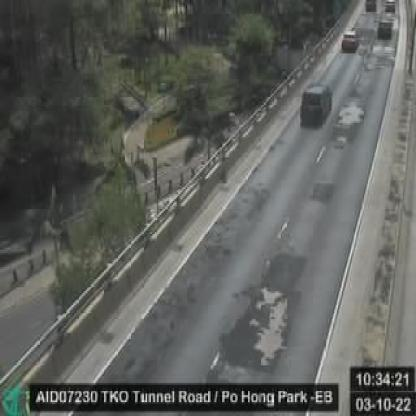Car: (302, 82, 332, 123), (339, 30, 359, 51)
